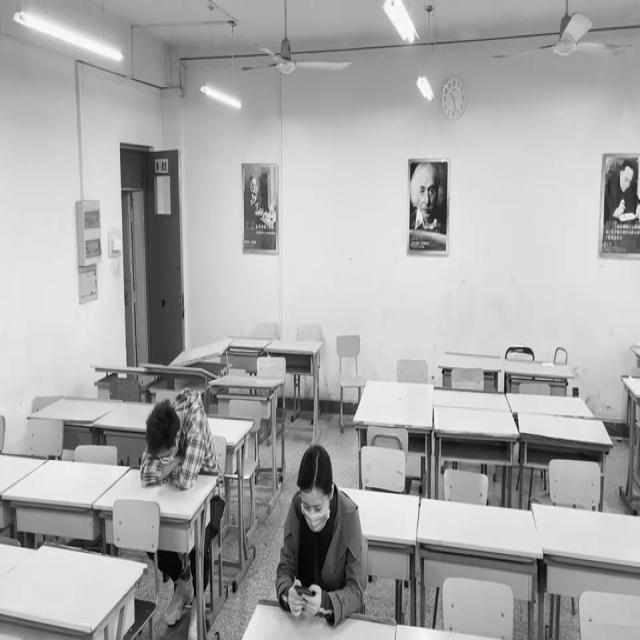phone: (275, 444, 362, 614)
sleep: (141, 390, 211, 491)
